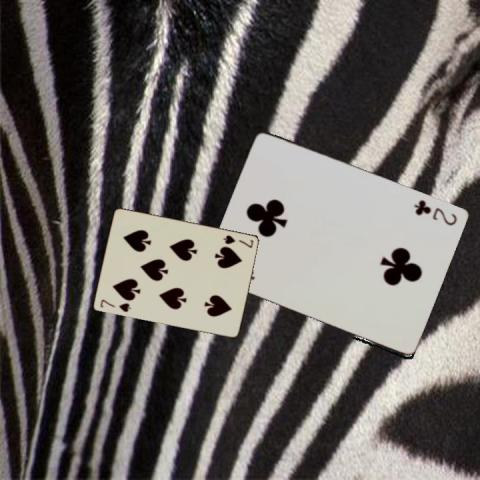2c: (411, 196, 459, 226)
7s: (220, 232, 254, 249), (97, 297, 132, 313)
